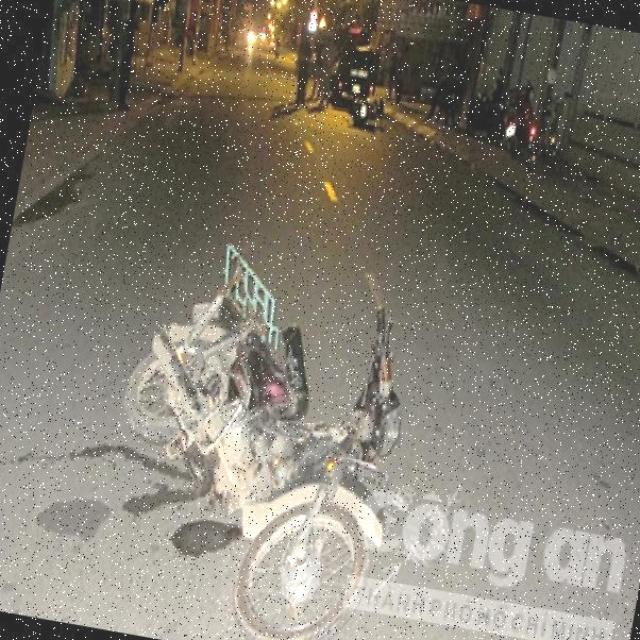accident: (69, 186, 471, 640)
